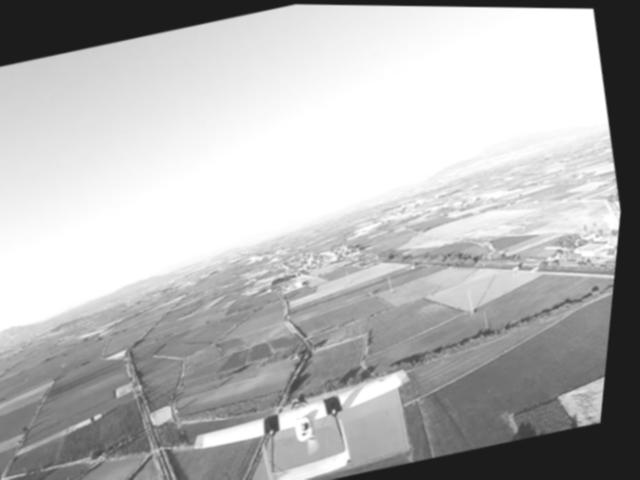hedef: (183, 336, 436, 480)
